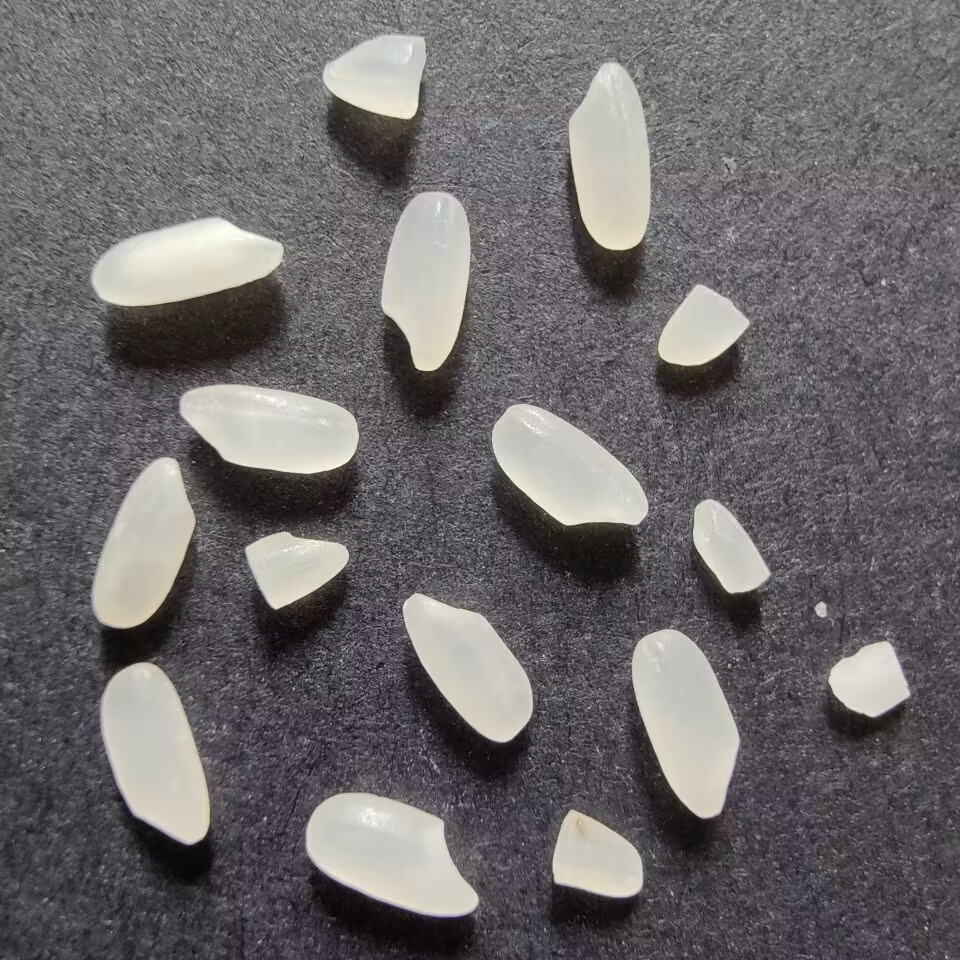broken: (312, 29, 431, 122), (546, 802, 650, 906), (240, 526, 355, 614), (689, 495, 776, 602), (652, 281, 753, 370), (815, 636, 913, 724)
rice: (300, 787, 485, 923), (487, 394, 655, 539), (96, 657, 219, 849), (629, 624, 744, 825), (398, 587, 539, 746), (86, 446, 201, 637), (82, 212, 292, 313), (556, 55, 654, 255), (171, 384, 366, 480), (378, 188, 473, 374)
